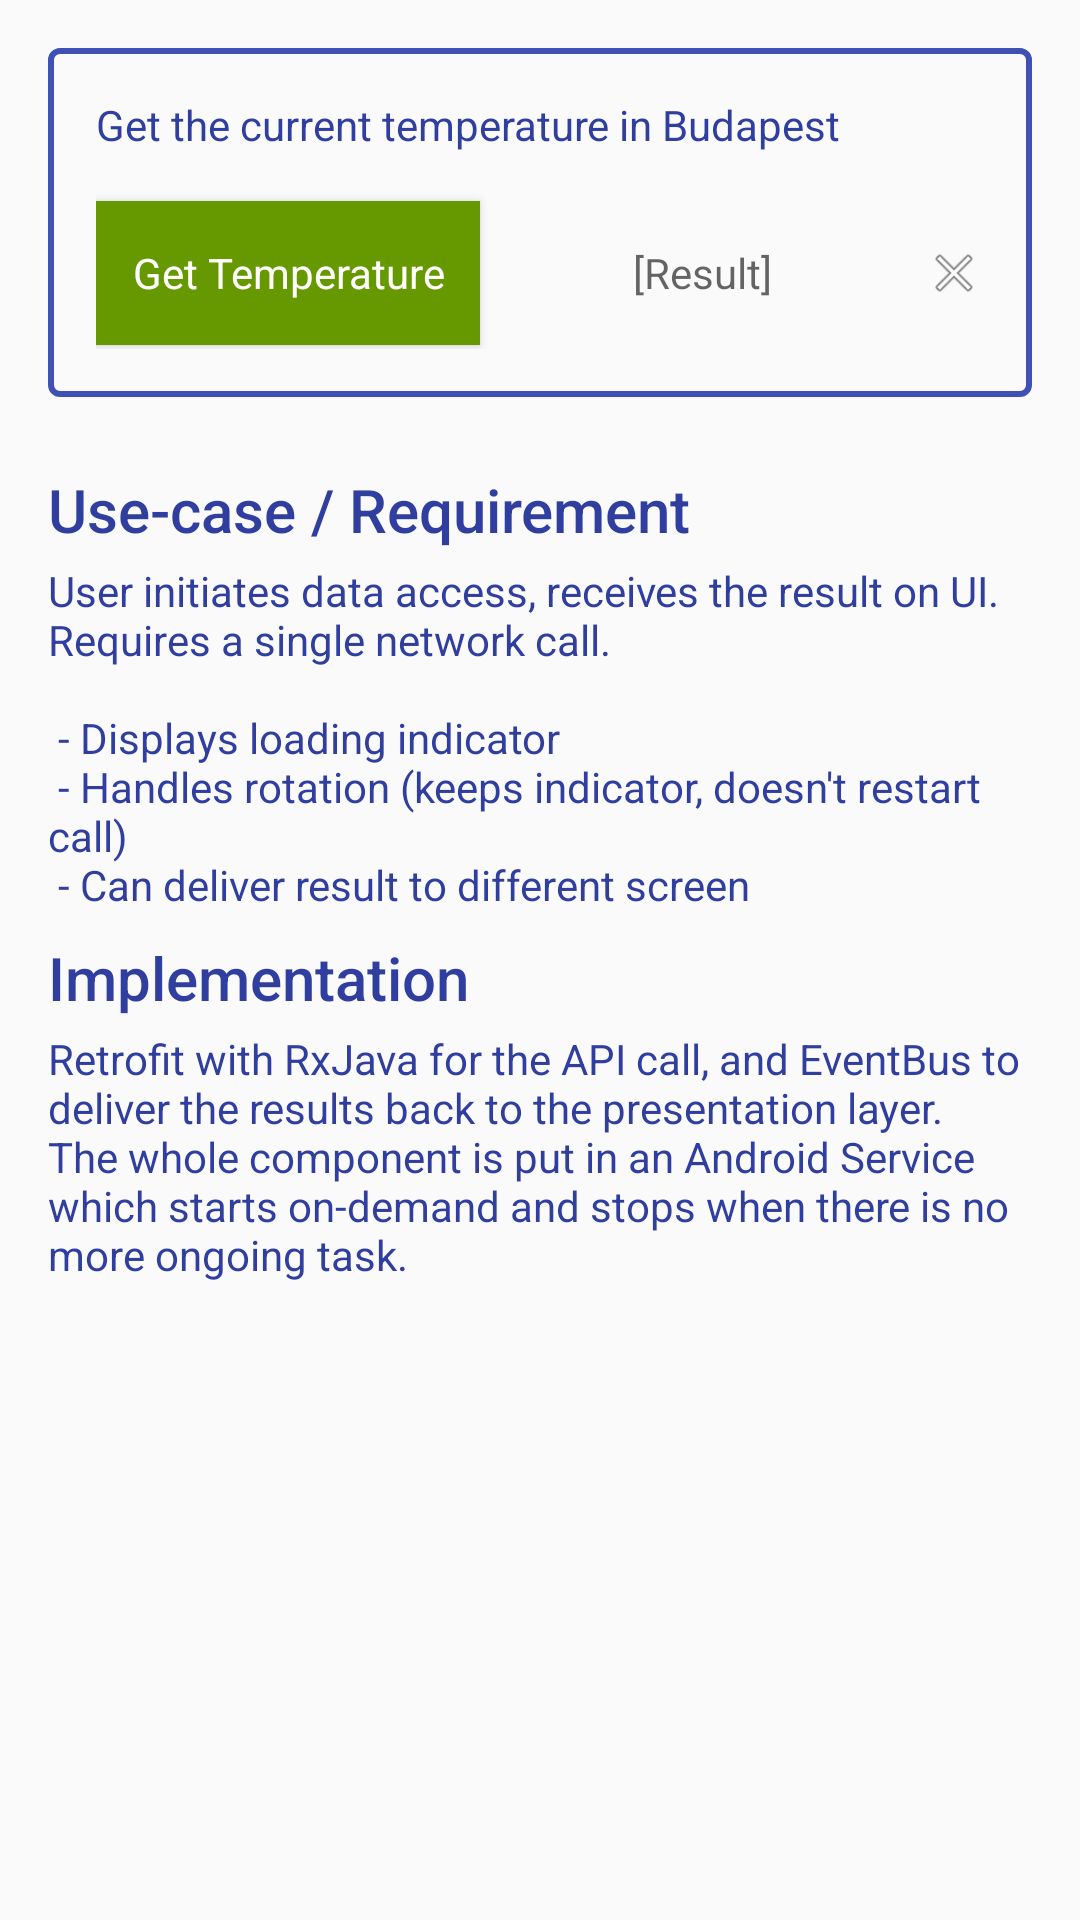

Where icons sit on this 1080 × 1920 app screen, as box(x1, y1, x2, y2):
close clear cancel: box(935, 254, 973, 292)
